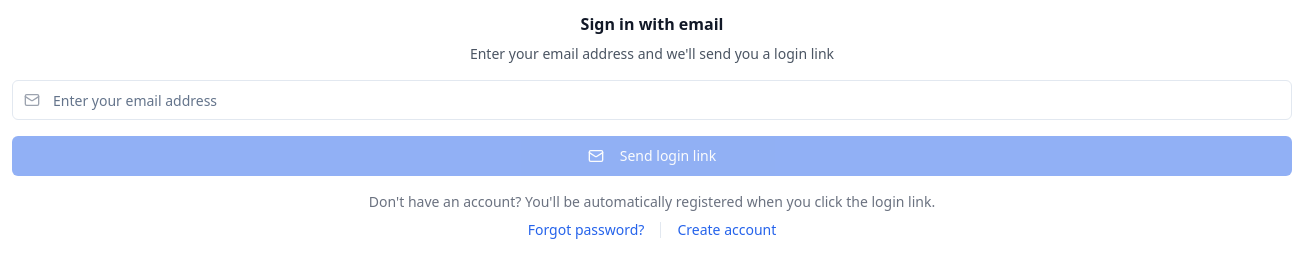
Test: EmailLoginForm › handles successful email submission
The width and height of the screenshot is (1304, 256).
Type "test@example.com" into the field with placeholder "Enter your email address".
click(652, 100); type("test@example.com")  # box [12, 80, 1292, 120]
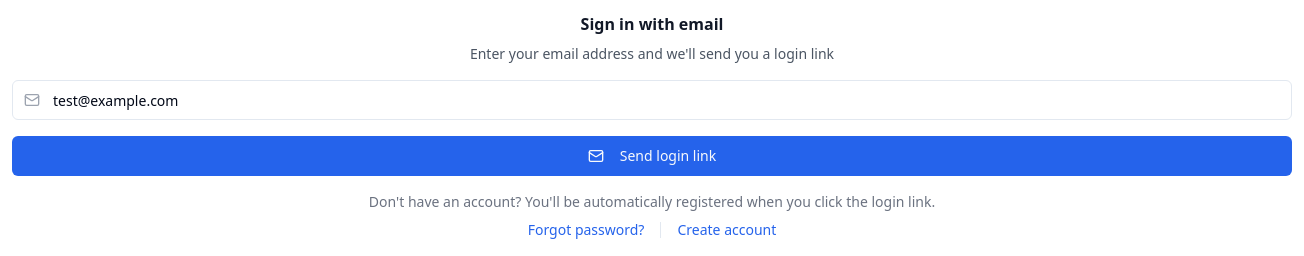
Click the button "Send login link".
click(652, 156)  # box [12, 136, 1292, 176]
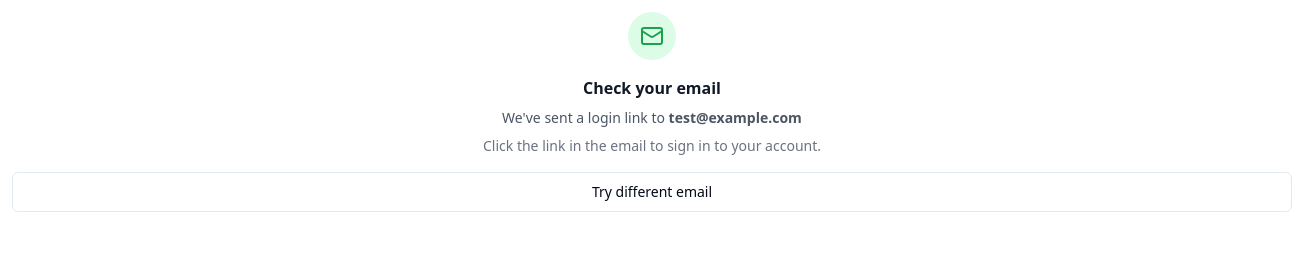
Expected: the heading "Check your email" is shown, [583, 77, 721, 99]
Expected: the text "We've sent a login link to test@example.com" is shown, [483, 108, 821, 128]
